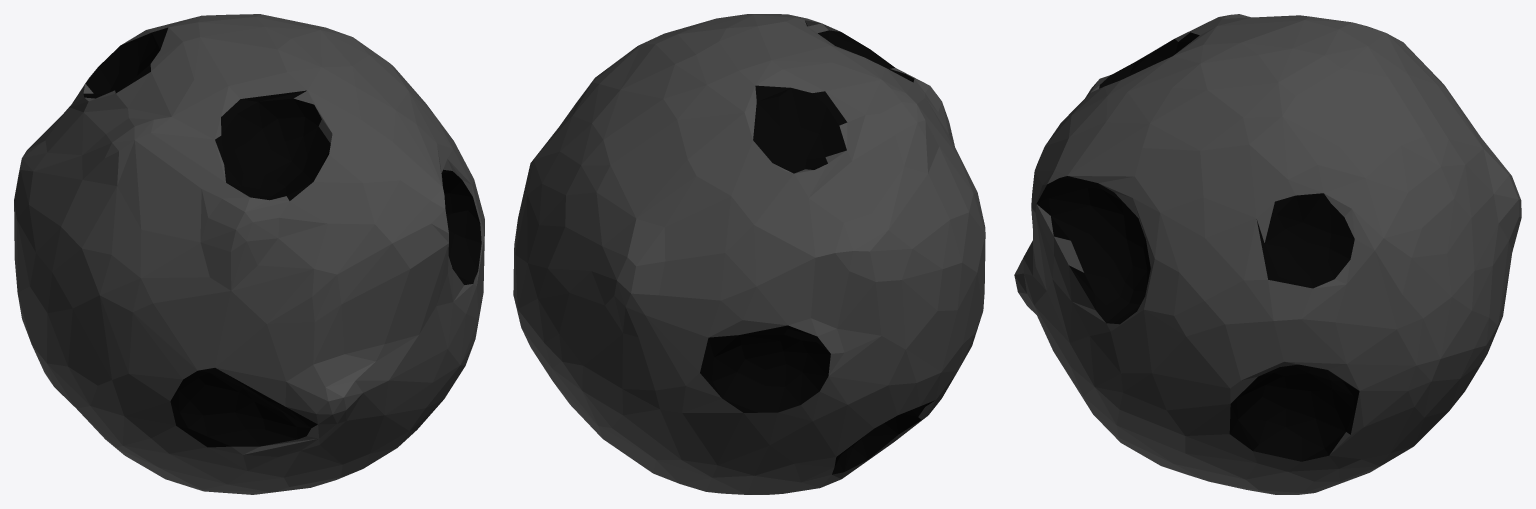
Rendered from Planet17.fbx.
3 renders of one model, left to right at view 1: azimuth 30°, elevation 25°; view 2: azimuth 150°, elevation 25°; view 3: azimuth 270°, elevation 25°, orthographic.
Visible parts, largest first — view 1: Planet17; view 2: Planet17; view 3: Planet17.
Part boxes in pixels (x1=…): Planet17: x1=14, y1=14, x2=484, y2=494; Planet17: x1=513, y1=14, x2=985, y2=494; Planet17: x1=1014, y1=14, x2=1521, y2=494.
Size of the model in its own units: 10.52 by 10.62 by 11.23.
